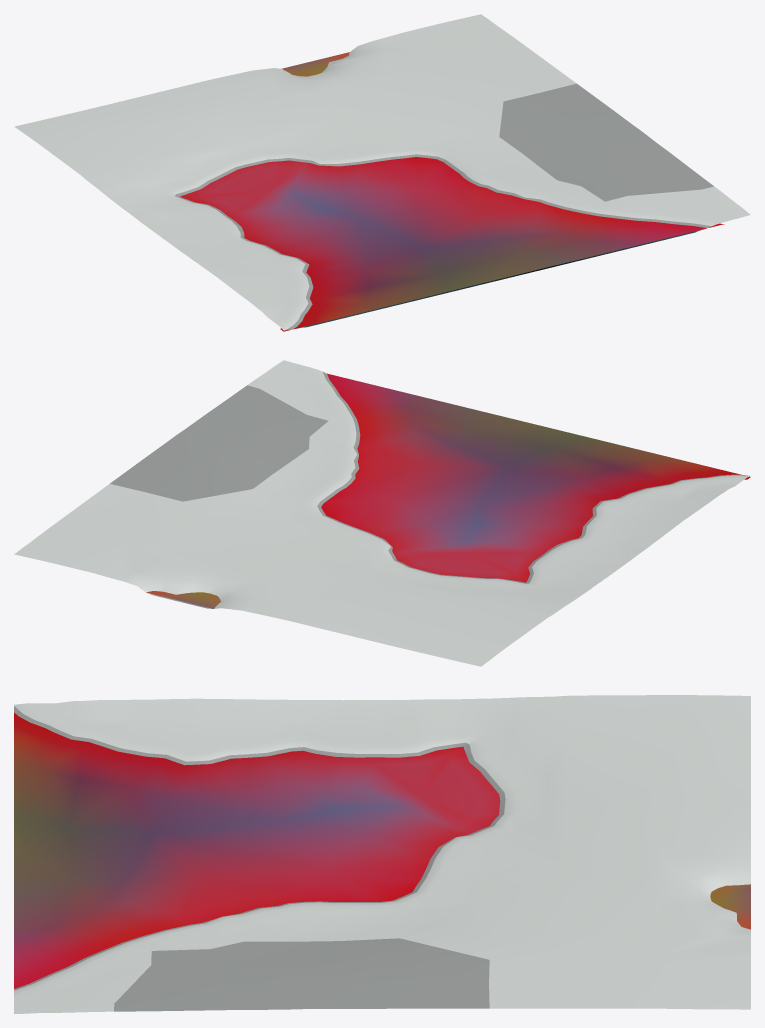
3 views of the same model, one above another, from view 1: azimuth 30°, elevation 25°; view 2: azimuth 150°, elevation 25°; view 3: azimuth 270°, elevation 25° (orthographic). The views are drawn at different scales.
Parts seen in each view (by area): view 1: G:\FFXIV-MapTools\exports\r2f1\bg\ex1\01_roc_r2\fld\r2f1\bgp (×6); view 2: G:\FFXIV-MapTools\exports\r2f1\bg\ex1\01_roc_r2\fld\r2f1\bgp (×5); view 3: G:\FFXIV-MapTools\exports\r2f1\bg\ex1\01_roc_r2\fld\r2f1\bgp (×5).
Part boxes in pixels (x1=…): G:\FFXIV-MapTools\exports\r2f1\bg\ex1\01_roc_r2\fld\r2f1\bgp (×6): x1=14, y1=14, x2=750, y2=331; G:\FFXIV-MapTools\exports\r2f1\bg\ex1\01_roc_r2\fld\r2f1\bgp (×5): x1=14, y1=360, x2=750, y2=666; G:\FFXIV-MapTools\exports\r2f1\bg\ex1\01_roc_r2\fld\r2f1\bgp (×5): x1=14, y1=695, x2=750, y2=1013.
Bounding box in the file's own units: 128 × 2.5 × 128.
